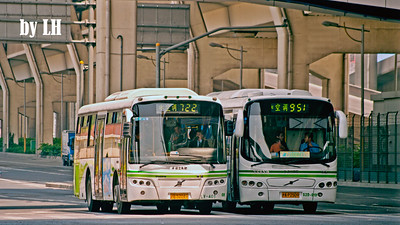bus: (73, 87, 228, 213), (208, 89, 336, 213)
